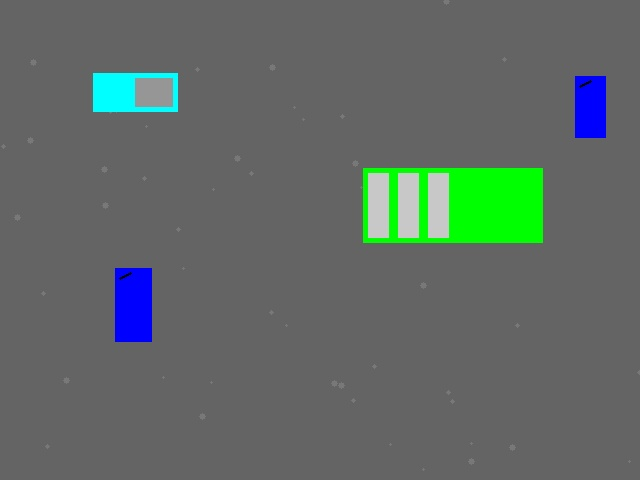bus: (363, 168, 542, 242)
motorcycle: (115, 268, 151, 341), (575, 76, 605, 137)
truck: (93, 73, 177, 111)
